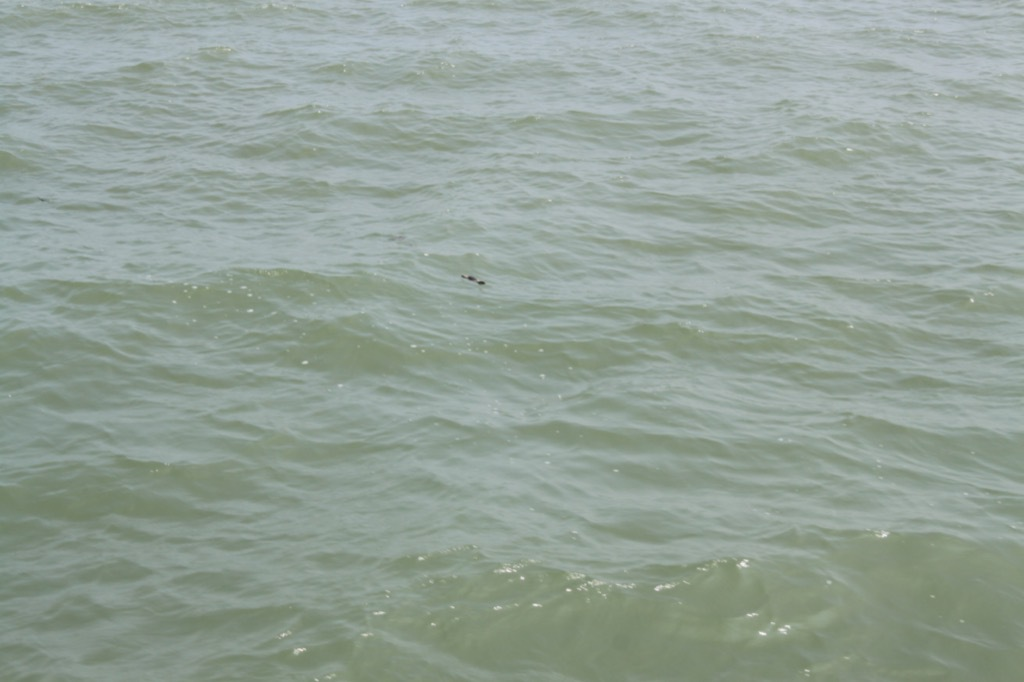organic: (456, 264, 495, 297)
